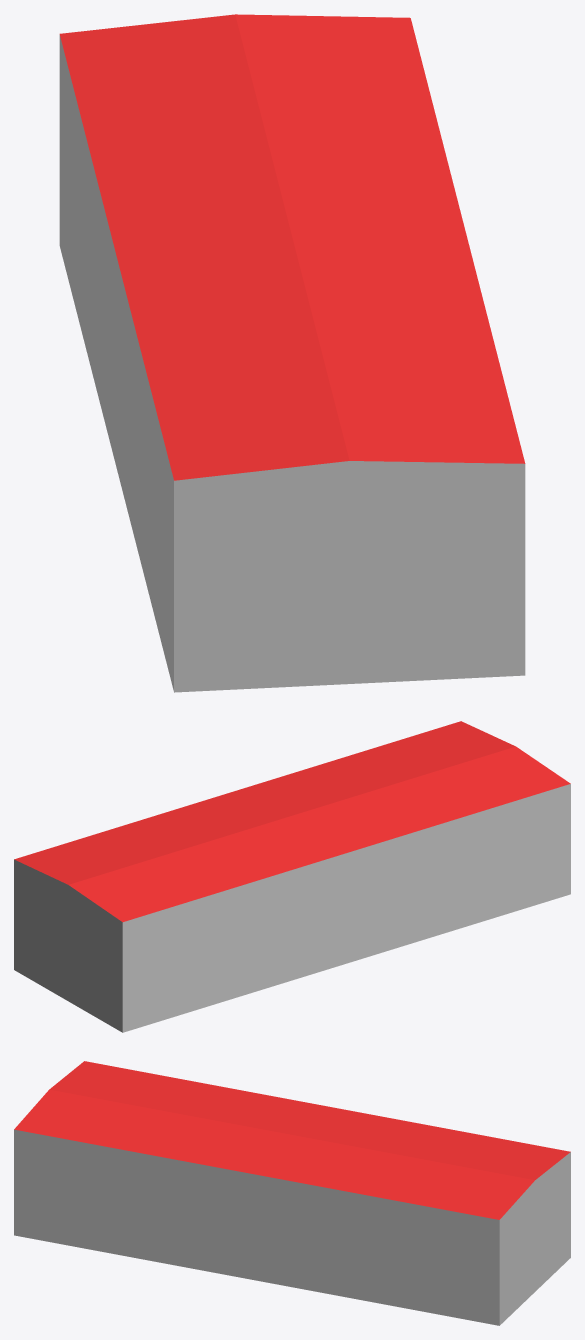
The model's file is DEBY_LOD2_4959459.dae.
3 renders of one model, top to bottom at view 1: azimuth 30°, elevation 25°; view 2: azimuth 150°, elevation 25°; view 3: azimuth 270°, elevation 25°, orthographic. The views are drawn at different scales.
Size of the model in its own units: 23.72 by 35.11 by 7.76.
